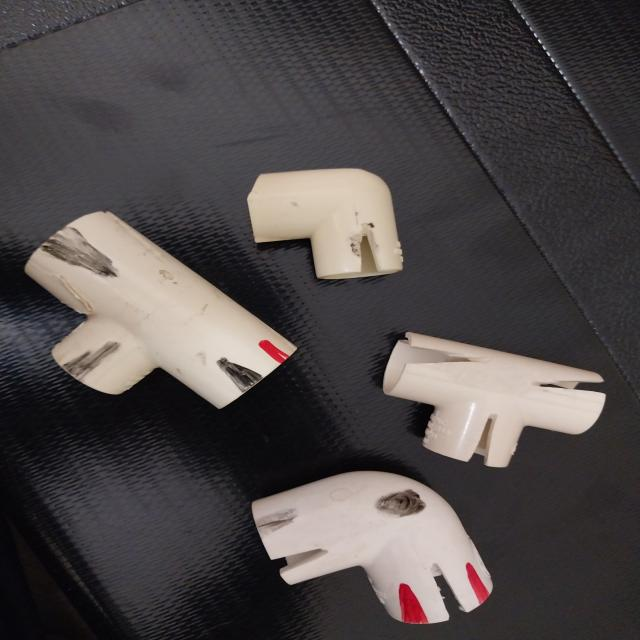Defective: (452, 384, 521, 464), (33, 239, 116, 277), (258, 528, 324, 570), (268, 538, 335, 576), (534, 378, 606, 408), (432, 568, 466, 616), (467, 417, 499, 467), (397, 346, 467, 368), (447, 566, 482, 609), (218, 360, 262, 390), (356, 228, 382, 276), (374, 491, 422, 517), (397, 586, 422, 622), (257, 510, 301, 530), (466, 564, 488, 599), (259, 341, 287, 362)
L Joint: (254, 472, 492, 620), (250, 169, 398, 278)
T Joint: (25, 211, 300, 405), (384, 325, 606, 472)
